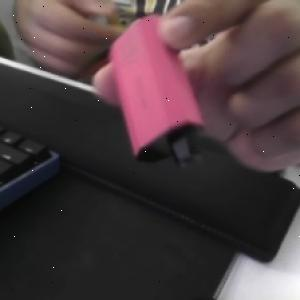Blume-E-Ciggirate: (106, 13, 205, 172)
